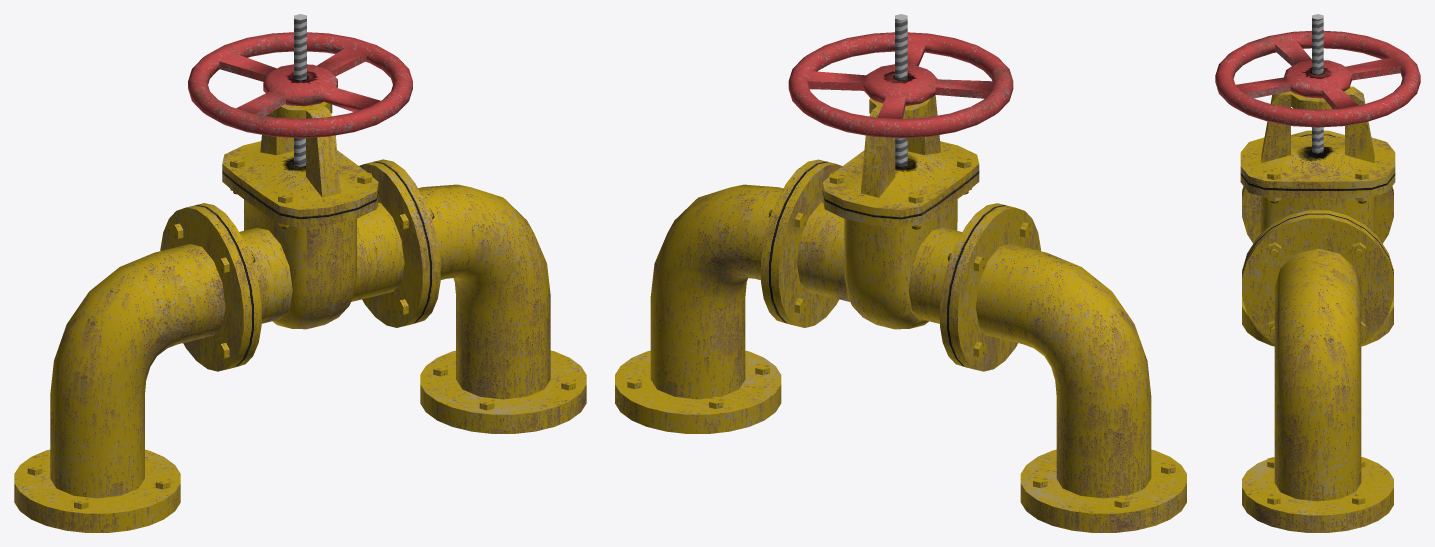
The model's file is Fauset_01.FBX.
3 renders of one model, left to right at view 1: azimuth 30°, elevation 25°; view 2: azimuth 150°, elevation 25°; view 3: azimuth 270°, elevation 25°, orthographic. The views are drawn at different scales.
Parts seen in each view (by area): view 1: Body_LOD0, Wheel_LOD0, Screw_LOD0; view 2: Body_LOD0, Wheel_LOD0, Screw_LOD0; view 3: Body_LOD0, Wheel_LOD0, Screw_LOD0.
Part boxes in pixels (x1,y1,x2,y2): Body_LOD0: (14,101,586,532); Wheel_LOD0: (188,32,412,138); Screw_LOD0: (294,14,306,166); Body_LOD0: (615,95,1186,532); Wheel_LOD0: (788,32,1013,138); Screw_LOD0: (895,14,907,166); Body_LOD0: (1240,86,1395,532); Wheel_LOD0: (1215,30,1420,127); Screw_LOD0: (1312,14,1323,153).
Size of what is drawn, in the model's own units: 0.6777 by 0.5081 by 0.24.
